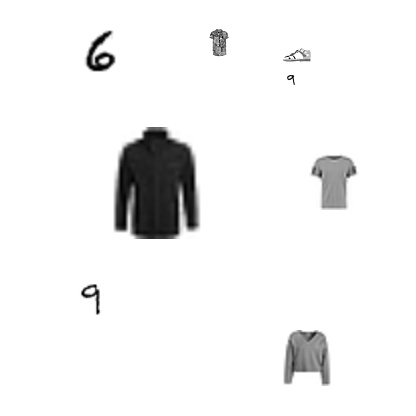6: (71, 27, 127, 83)
9: (71, 274, 113, 316), (284, 71, 298, 85)
Coat: (99, 127, 211, 239)
Pullover: (278, 330, 334, 386)
Sandal: (283, 41, 311, 69)
Shirt: (205, 29, 233, 57)
T-shirt/top: (306, 154, 362, 210)
